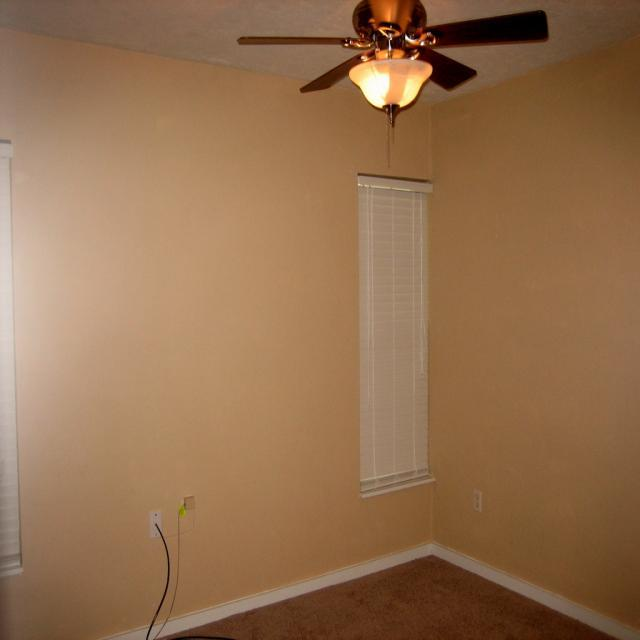fan_off: (238, 0, 549, 95)
